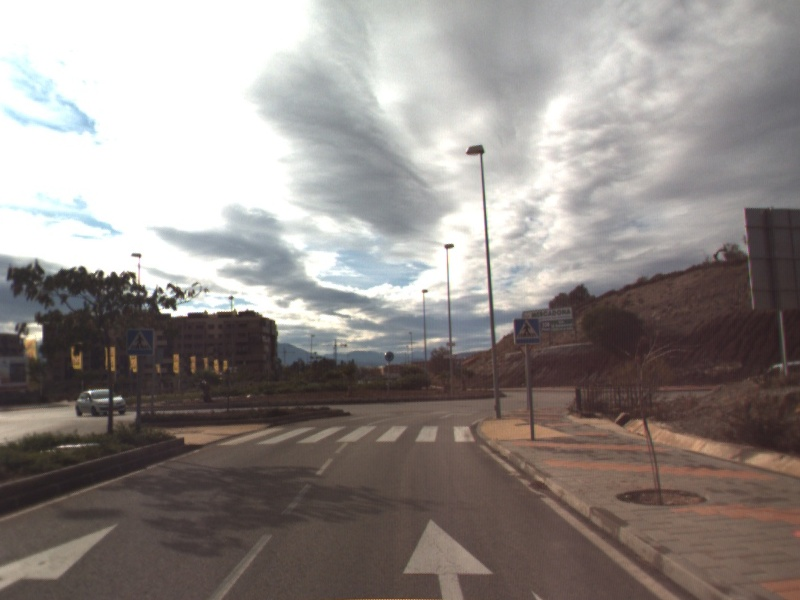STRAIGHT: (1, 521, 121, 593), (400, 514, 496, 600)
